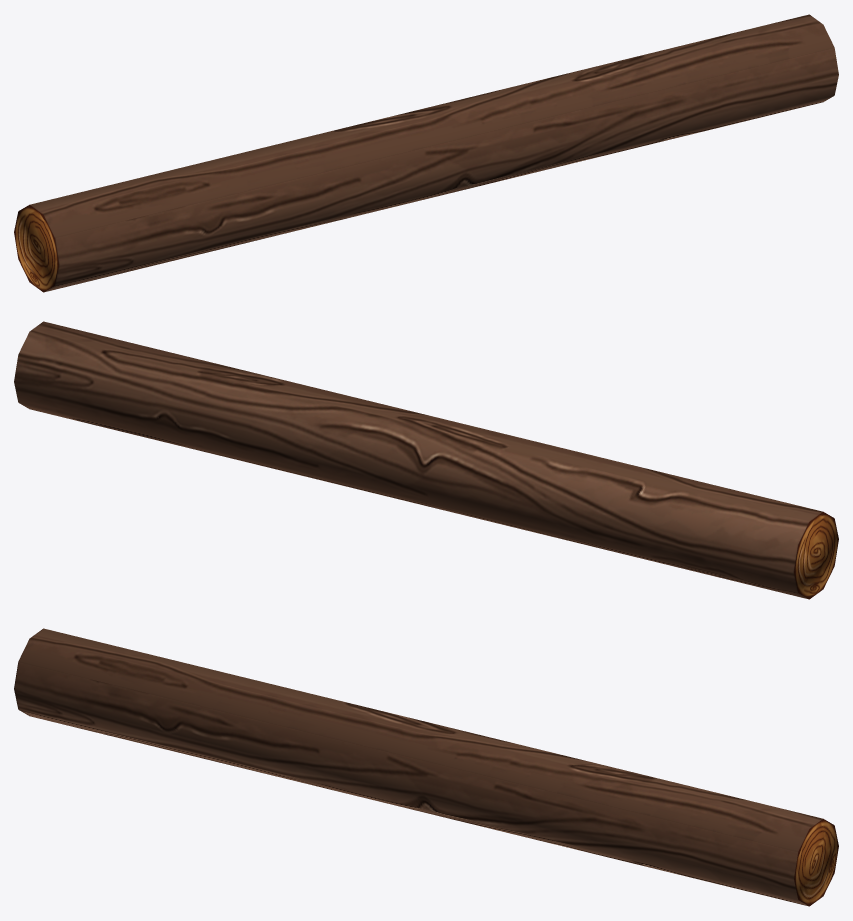
Rendered from WoodLog.fbx.
The picture shows the model from 3 angles, top to bottom: view 1: azimuth 30°, elevation 25°; view 2: azimuth 150°, elevation 25°; view 3: azimuth 330°, elevation 25°; orthographic projection.
Parts seen in each view (by area): view 1: Wood_Log; view 2: Wood_Log; view 3: Wood_Log.
Part boxes in pixels (x1=…): Wood_Log: x1=14, y1=14, x2=838, y2=292; Wood_Log: x1=14, y1=321, x2=838, y2=599; Wood_Log: x1=14, y1=628, x2=838, y2=906.
Bounding box in the file's own units: 4 × 0.3804 × 0.4.
